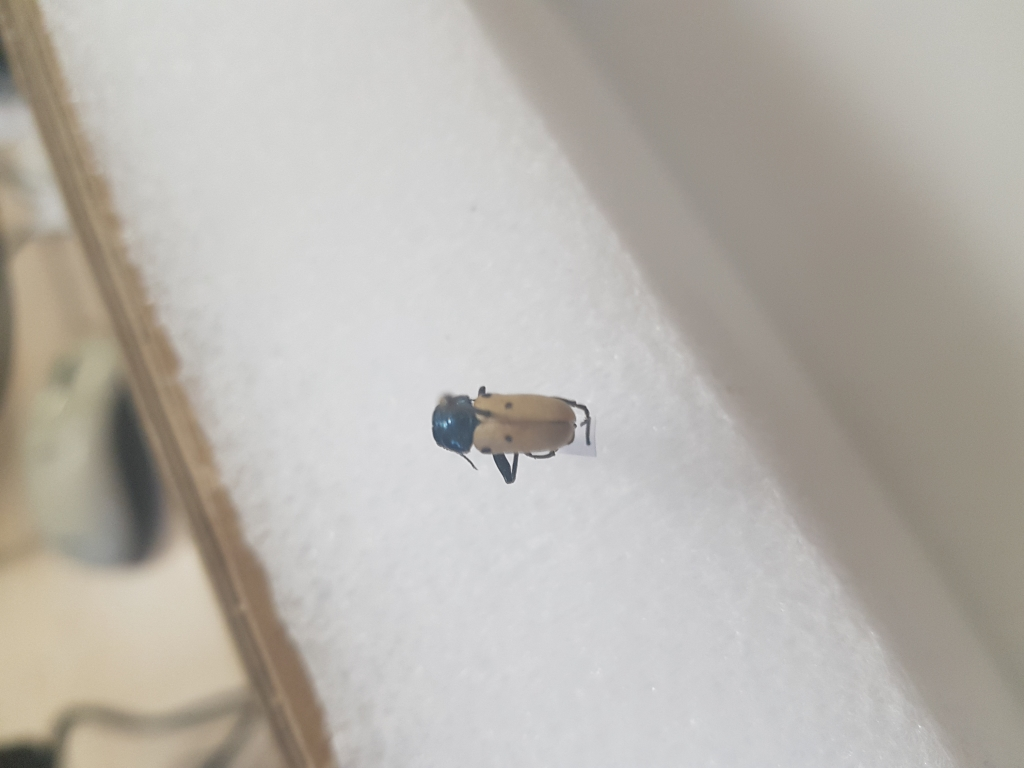Labidostomis_maculipennis: (427, 376, 604, 482)
